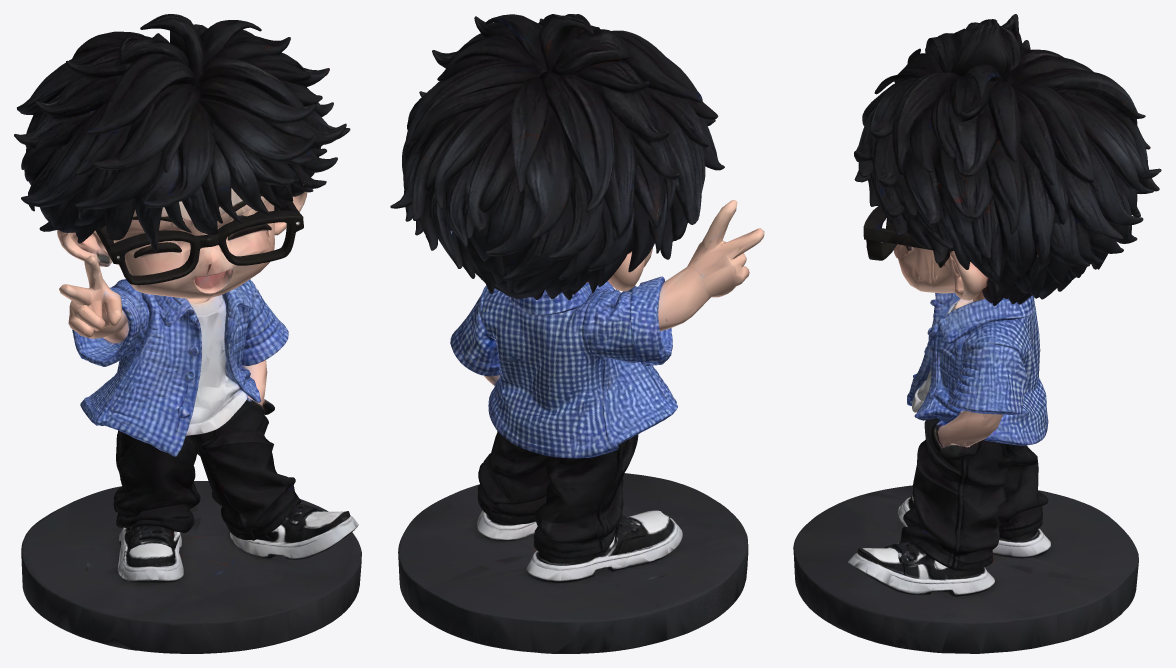
The model's file is plaid.glb.
3 views of the same model, side by side, from view 1: azimuth 30°, elevation 25°; view 2: azimuth 150°, elevation 25°; view 3: azimuth 270°, elevation 25° (orthographic). The views are drawn at different scales.
Visible parts, largest first — view 1: model; view 2: model; view 3: model.
Boxes of the visible parts, x1,y1,x2,y2 form: model: (14, 14, 361, 653); model: (390, 14, 764, 653); model: (793, 14, 1161, 653).
Size of the model in its own units: 1.07 by 1.9 by 1.14.
1 material, 1 textured.
